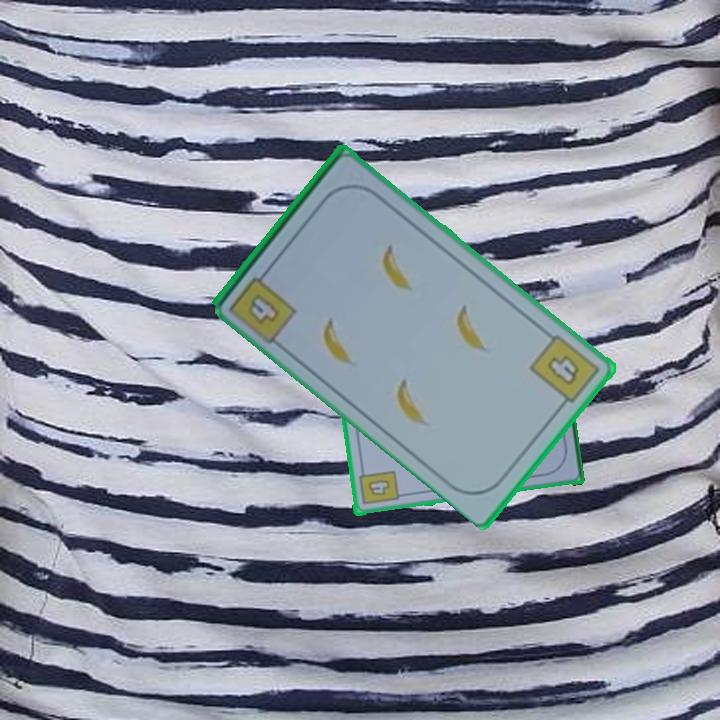4b: (526, 330, 603, 413), (355, 466, 401, 508), (248, 294, 280, 324)
